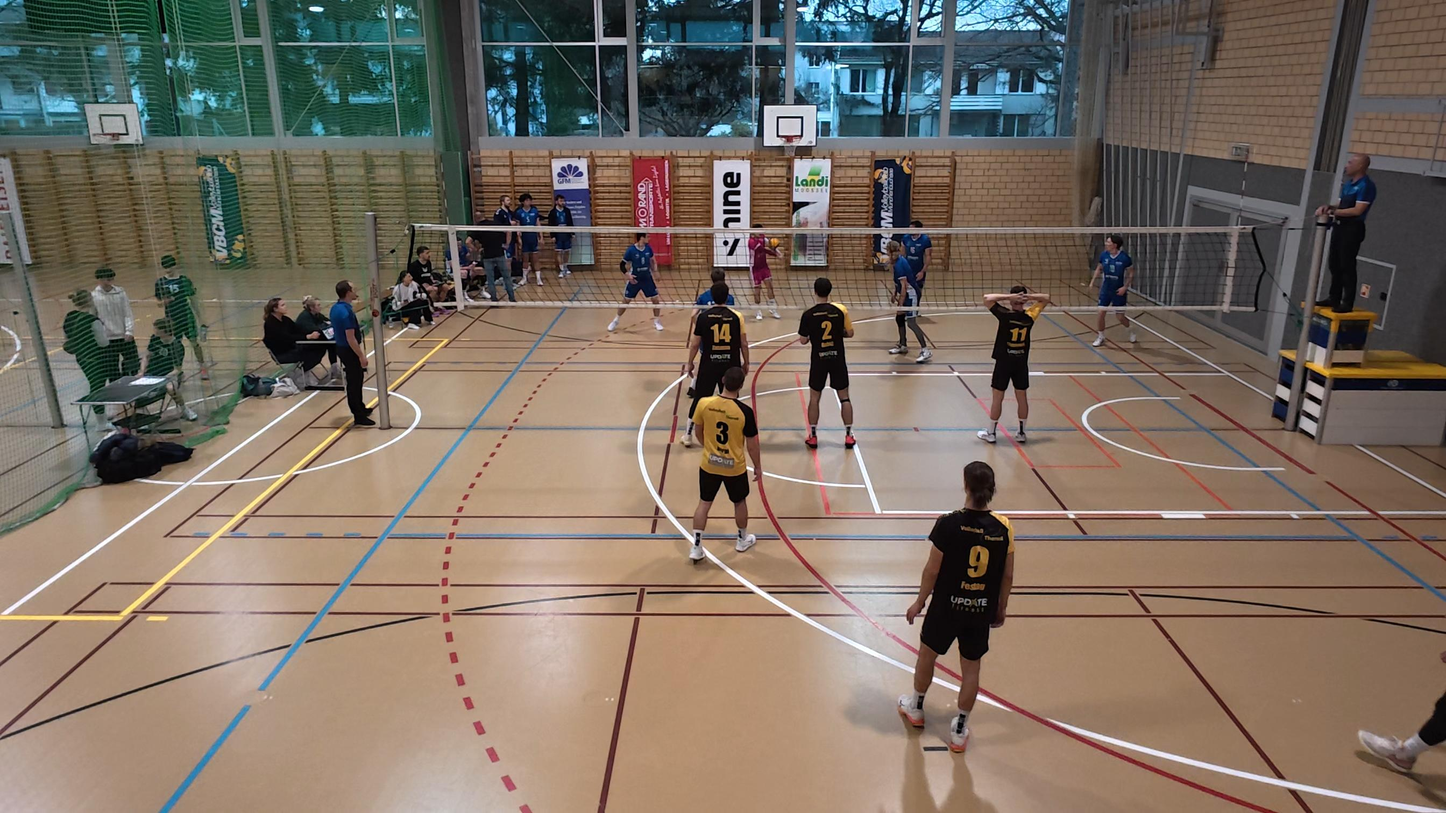ricezione: (744, 220, 781, 321)
